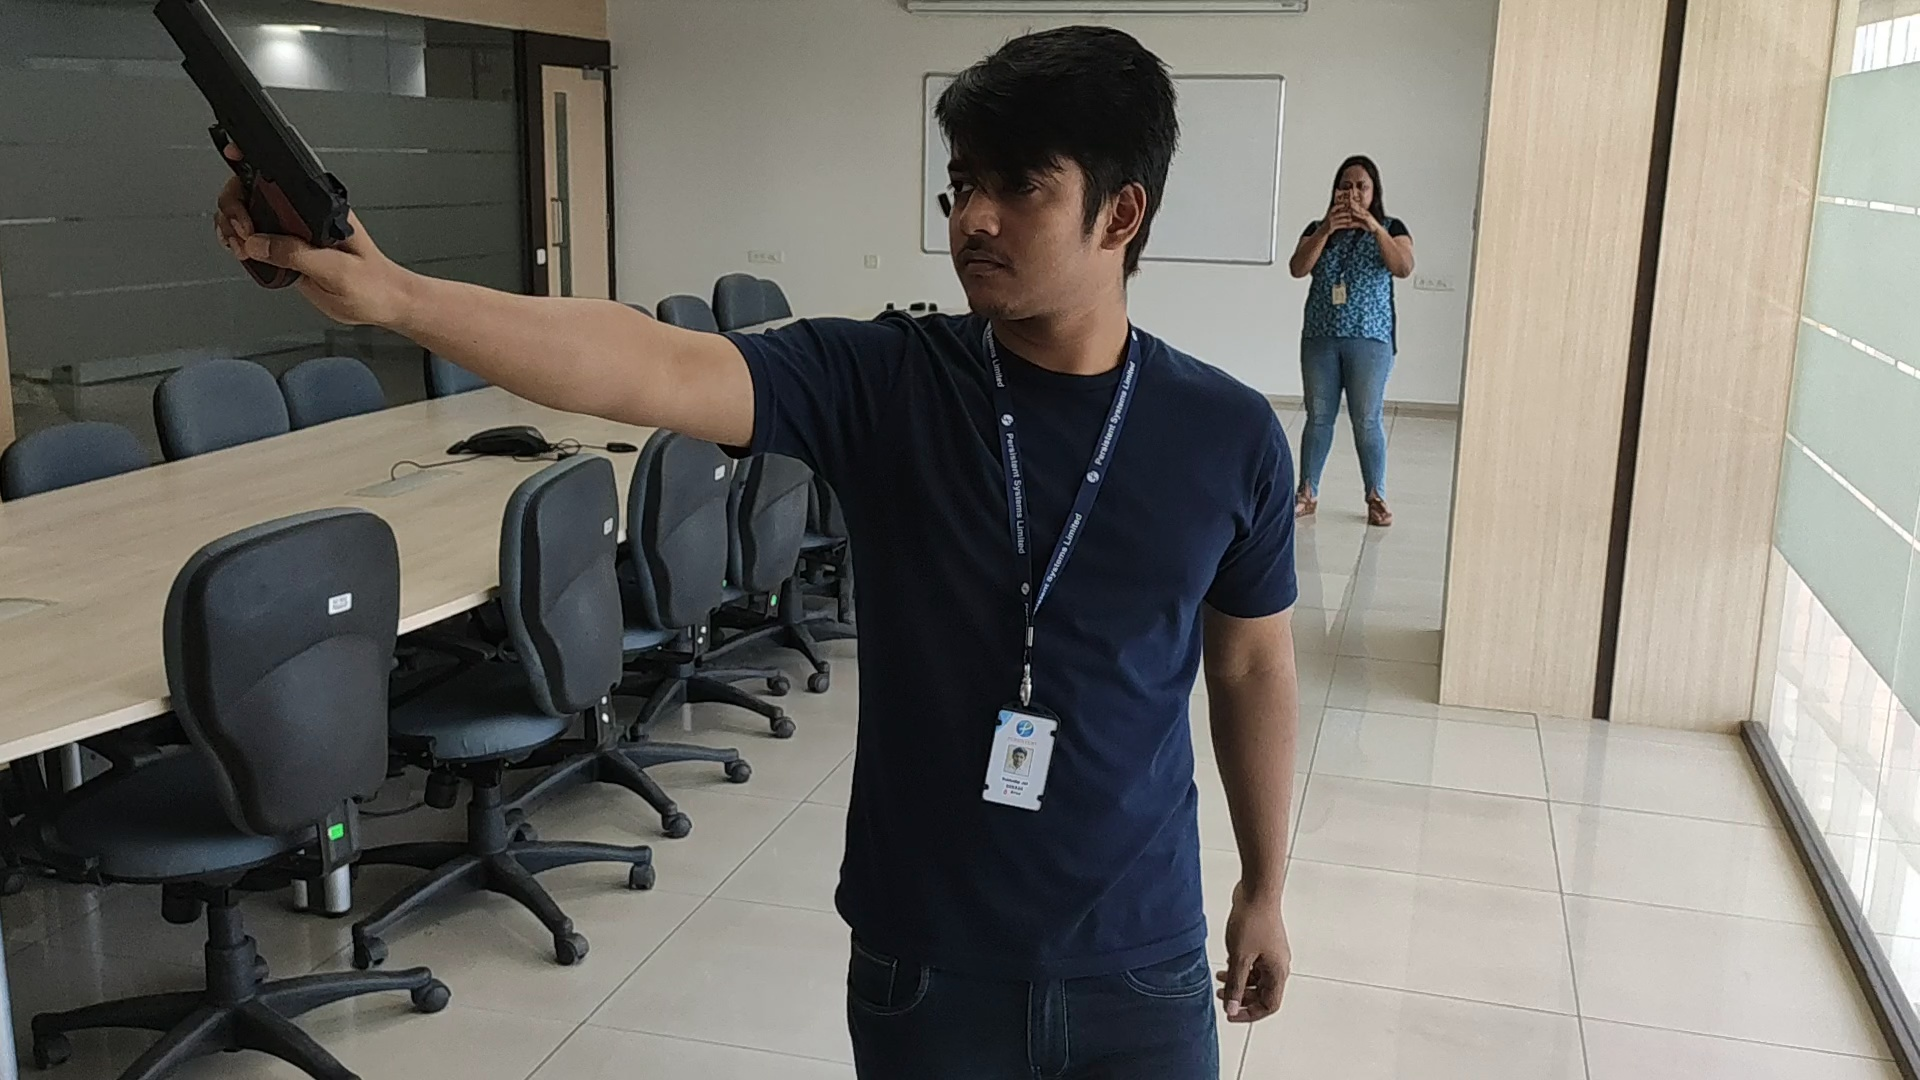gun: (149, 1, 356, 239)
